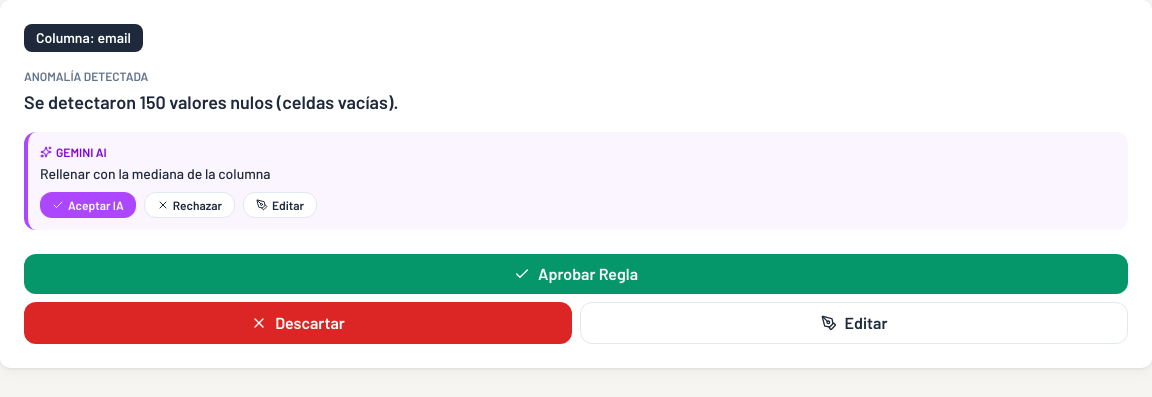
Scenario: AnomalyCard › isPlausibleAiValue guard: does not auto-apply narrative aiActionValue
This screenshot has width=1152, height=397.
Click the button "Aceptar IA": (88,205) [40,192,136,218]
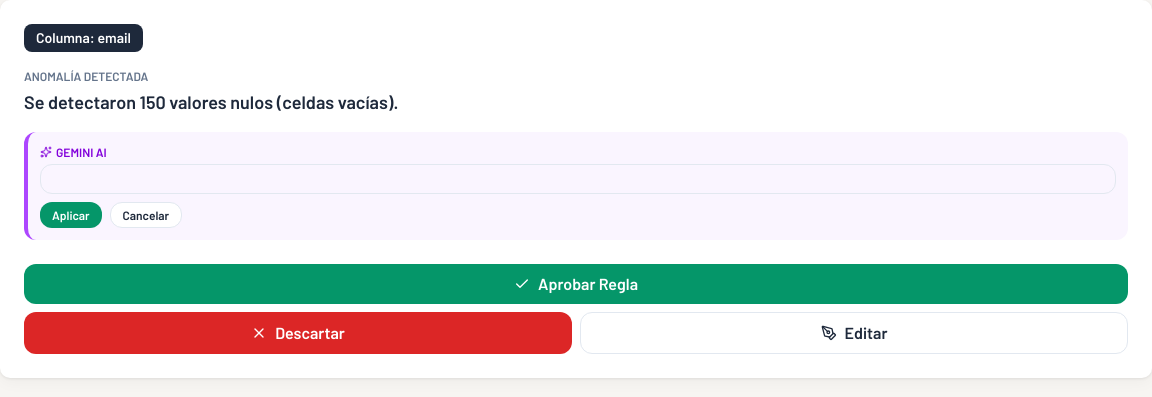
Expected: the button "Aplicar" is shown, [40,202,102,228]
Expected: the button "Cancelar" is shown, [110,202,182,228]
